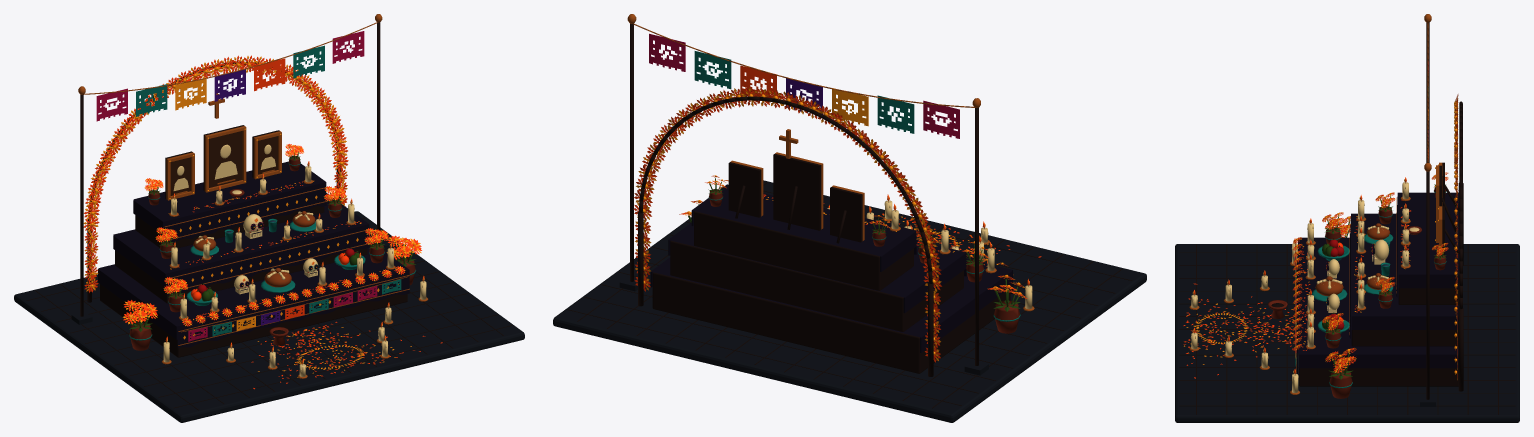
The model's file is ofrenda.obj.
The picture shows the model from 3 angles, left to right: view 1: azimuth 30°, elevation 25°; view 2: azimuth 150°, elevation 25°; view 3: azimuth 270°, elevation 25°; orthographic projection. The views are drawn at different scales.
Visible parts, largest first — view 1: Ofrenda_Mixquic; view 2: Ofrenda_Mixquic; view 3: Ofrenda_Mixquic.
Part boxes in pixels (x1,y1,x2,y2): Ofrenda_Mixquic: [14, 14, 524, 422]; Ofrenda_Mixquic: [553, 14, 1146, 422]; Ofrenda_Mixquic: [1175, 14, 1519, 422].
Size of the model in its own units: 5.7 by 3.82 by 4.8.
